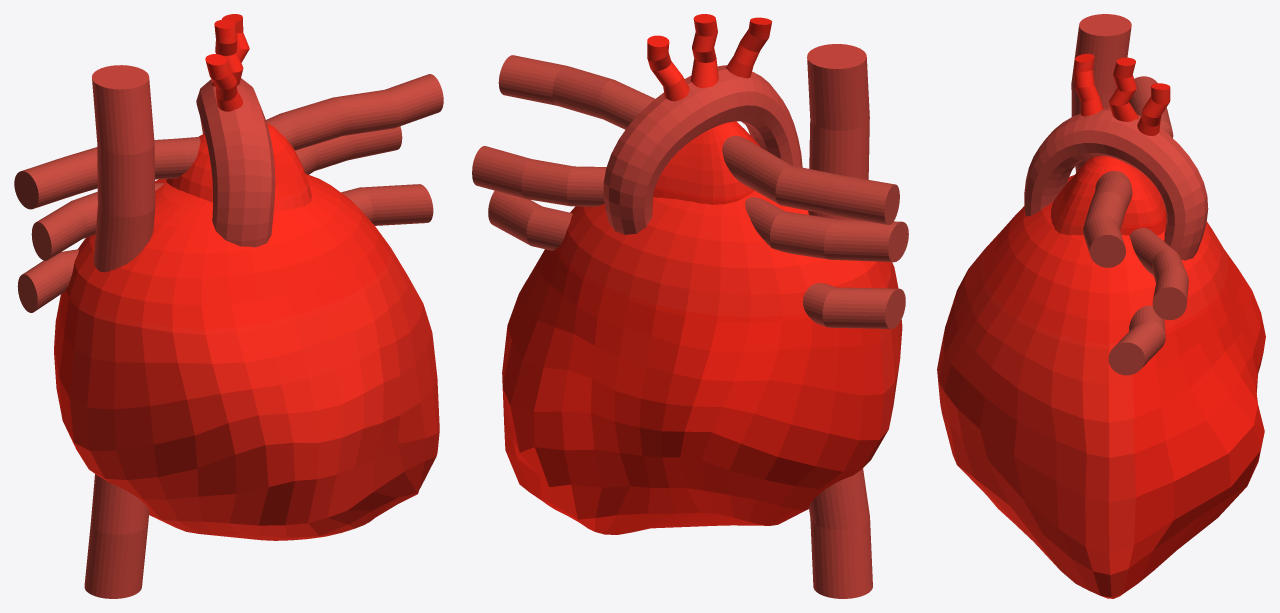
Rendered from BullcockHeart.fbx.
3 views of the same model, side by side, from view 1: azimuth 30°, elevation 25°; view 2: azimuth 150°, elevation 25°; view 3: azimuth 270°, elevation 25° (orthographic). The views are drawn at different scales.
Visible parts, largest first — view 1: Heart.001, Heart; view 2: Heart.001, Heart; view 3: Heart.001, Heart.
Part boxes in pixels (box(x1,y1,x2,y2)): Heart.001: box(54, 123, 439, 540); Heart: box(14, 14, 443, 598); Heart.001: box(502, 121, 902, 534); Heart: box(472, 14, 908, 598); Heart.001: box(937, 156, 1265, 598); Heart: box(1024, 14, 1208, 375).
Bounding box in the file's own units: 340 × 436 × 271.
